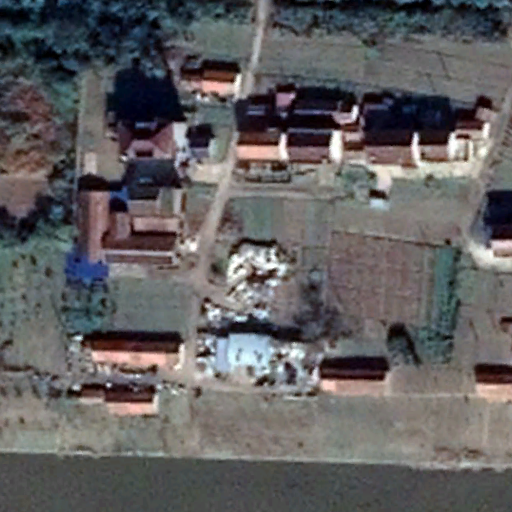msw: (202, 243, 293, 325)
